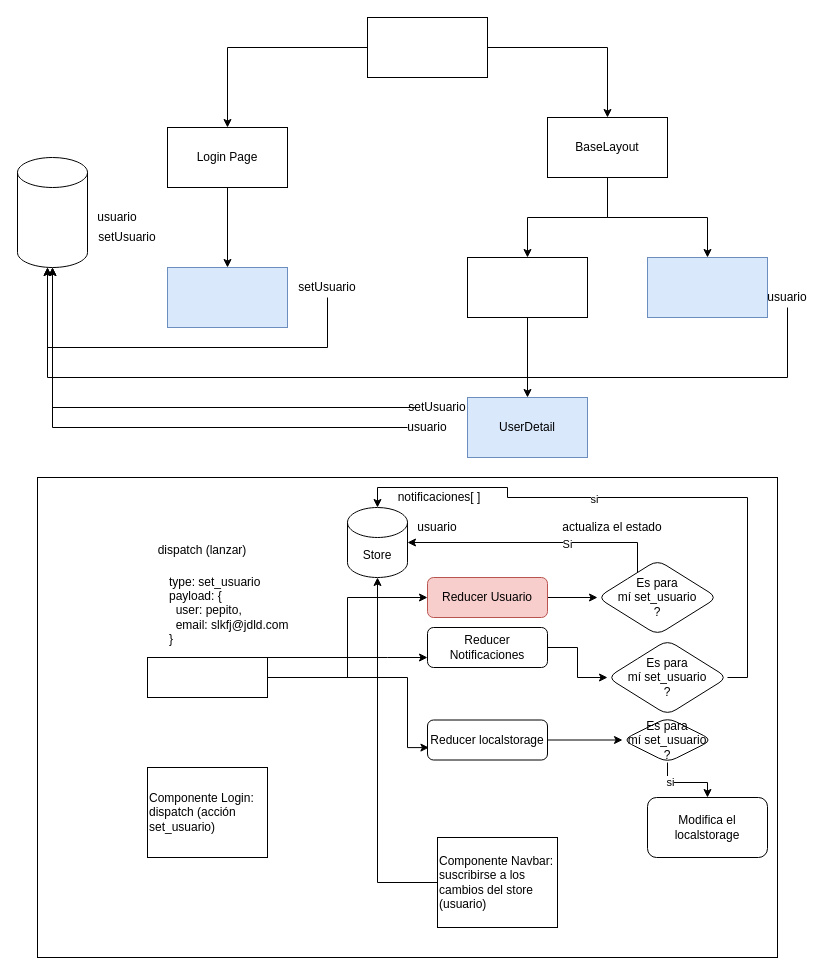
This 825x975 diagram has some shape labels left out. The shapes that lost their labels are listed below. From the top down, each one's centre as x and y in pixels, then its label:
the point at 427,47: App
the point at 52,212: Estado global (Context) (Redux)
the point at 227,297: LoginForm
the point at 527,287: UserDetailPage
the point at 707,287: NavBar
the point at 207,677: Actions setUsuario
